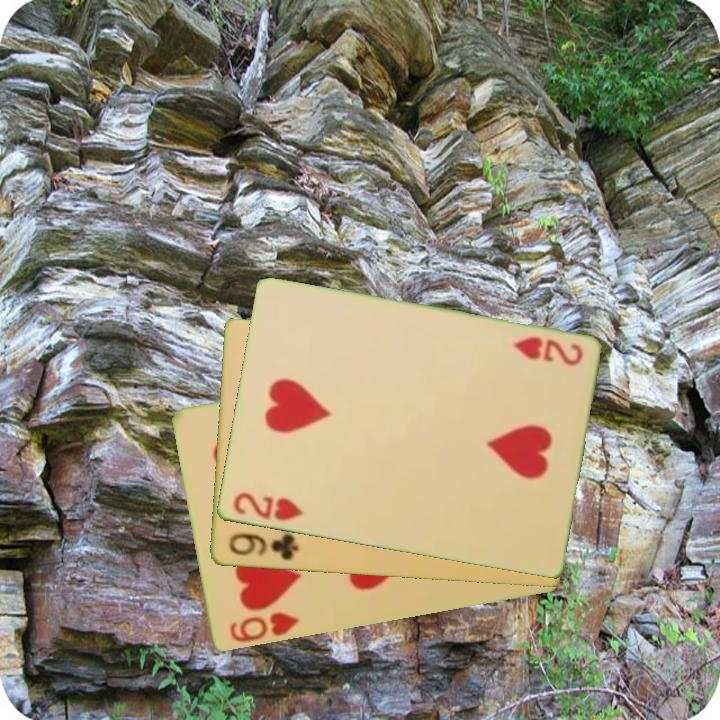2h: (509, 333, 585, 369), (229, 489, 305, 524)
6h: (225, 609, 301, 646)
9c: (225, 530, 301, 564)
